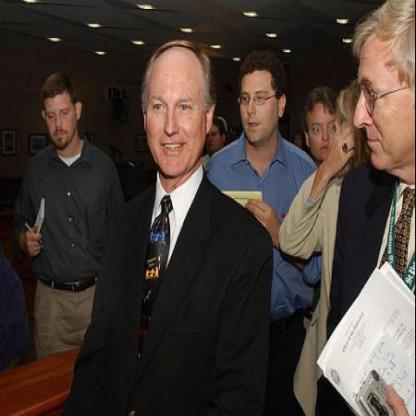face: (145, 46, 209, 179), (240, 55, 281, 145), (310, 95, 344, 163), (45, 79, 77, 150), (206, 123, 223, 155)
